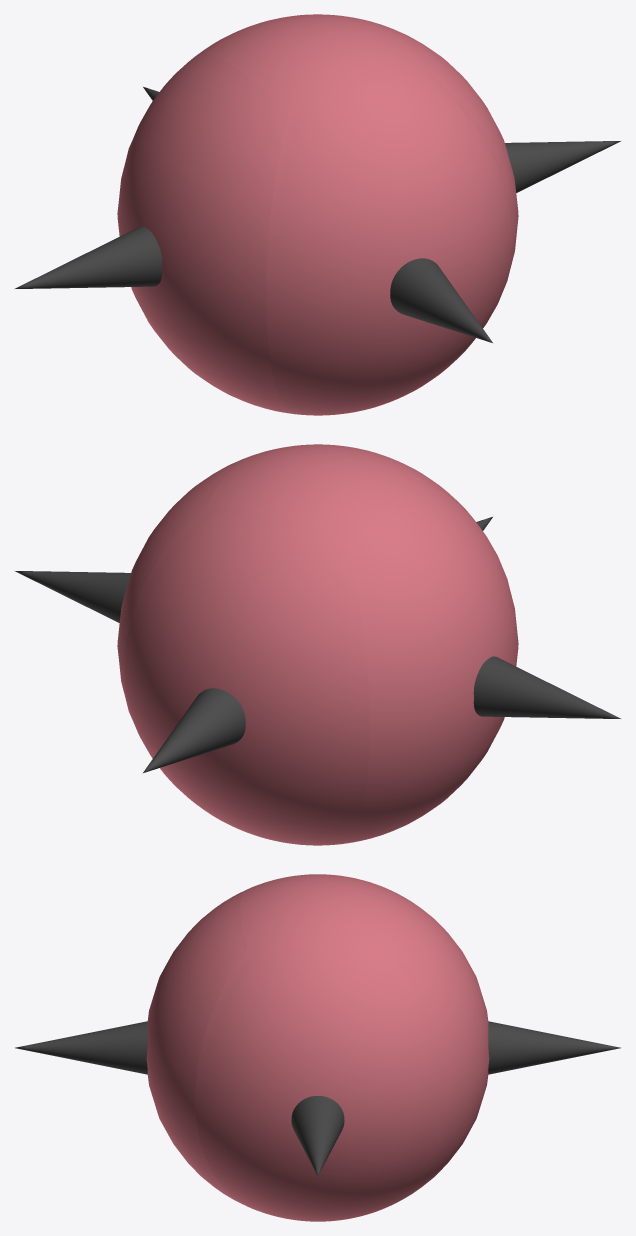
3 renders of one model, top to bottom at view 1: azimuth 30°, elevation 25°; view 2: azimuth 150°, elevation 25°; view 3: azimuth 270°, elevation 25°, orthographic. The views are drawn at different scales.
Visible parts, largest first — view 1: Body(Spherical)+Colour(6070014_6070014)+Pattern(Solid)+_ec47, Arm002, Arm004, Arm001; view 2: Body(Spherical)+Colour(6070014_6070014)+Pattern(Solid)+_ec47, Arm002, Arm003, Arm001; view 3: Body(Spherical)+Colour(6070014_6070014)+Pattern(Solid)+_ec47, Arm003, Arm004, Arm001.
Part boxes in pixels (bbox=[...]): Body(Spherical)+Colour(6070014_6070014)+Pattern(Solid)+_ec47: bbox=[117, 14, 518, 415]; Arm002: bbox=[15, 226, 162, 288]; Arm004: bbox=[390, 258, 492, 342]; Arm001: bbox=[505, 141, 620, 192]; Body(Spherical)+Colour(6070014_6070014)+Pattern(Solid)+_ec47: bbox=[117, 444, 518, 845]; Arm002: bbox=[473, 656, 620, 718]; Arm003: bbox=[143, 688, 245, 772]; Arm001: bbox=[15, 571, 130, 622]; Body(Spherical)+Colour(6070014_6070014)+Pattern(Solid)+_ec47: bbox=[146, 874, 489, 1221]; Arm003: bbox=[488, 1021, 620, 1074]; Arm004: bbox=[15, 1021, 147, 1074]; Arm001: bbox=[291, 1096, 344, 1175].
Bounding box in the file's own units: 1.78 × 1.02 × 1.78.
2 materials, 2 textured.
